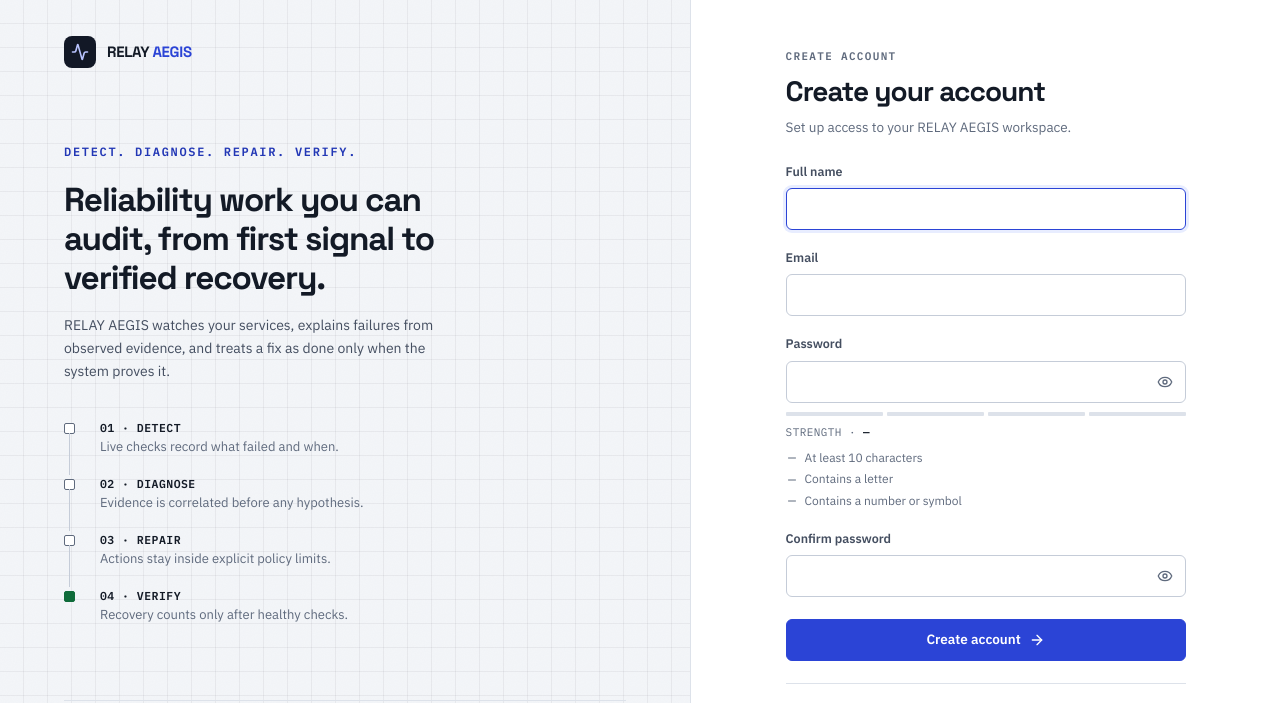
Test: registration › maps server validation errors to fields
In the field labelled "Full name": (986, 209) x1=786 y1=188 x2=1186 y2=230, type "Ada Lovelace"
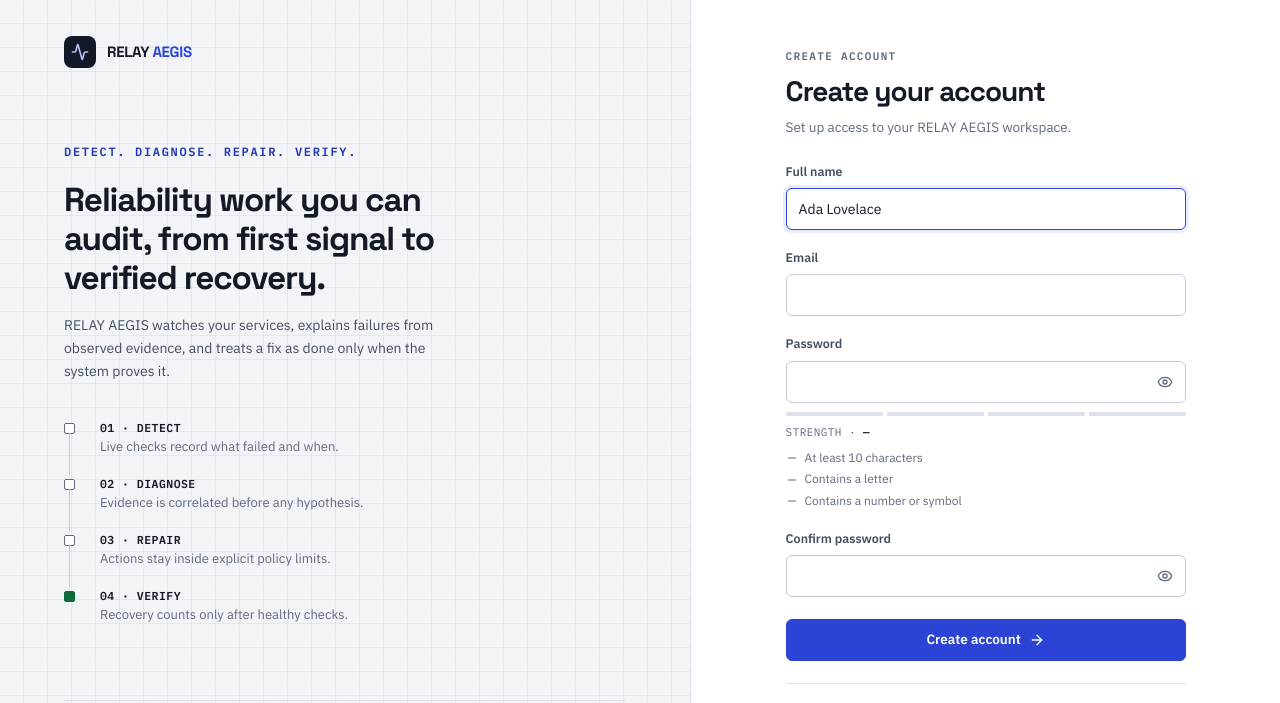
In the field labelled "Email": (986, 295) x1=786 y1=274 x2=1186 y2=316, type "ada@relay.test"
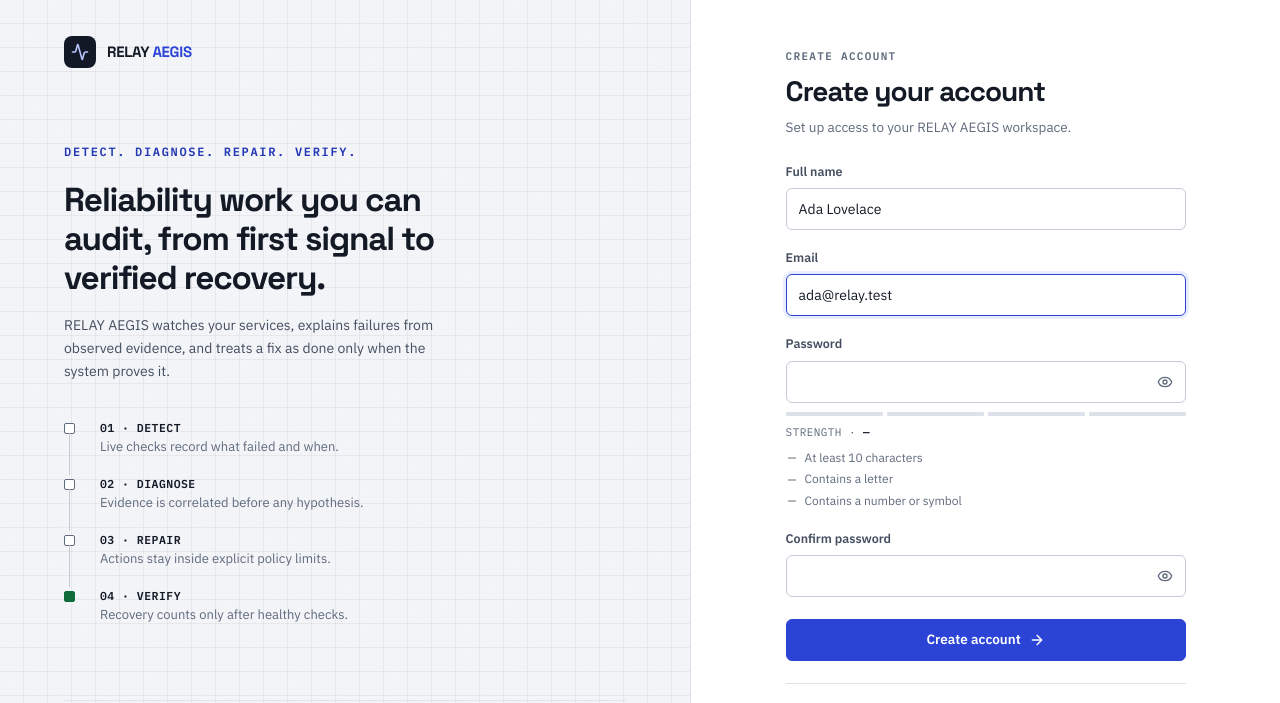
In the password field labelled "Password": (986, 382) x1=786 y1=361 x2=1186 y2=403, type "Correct-Horse-42"
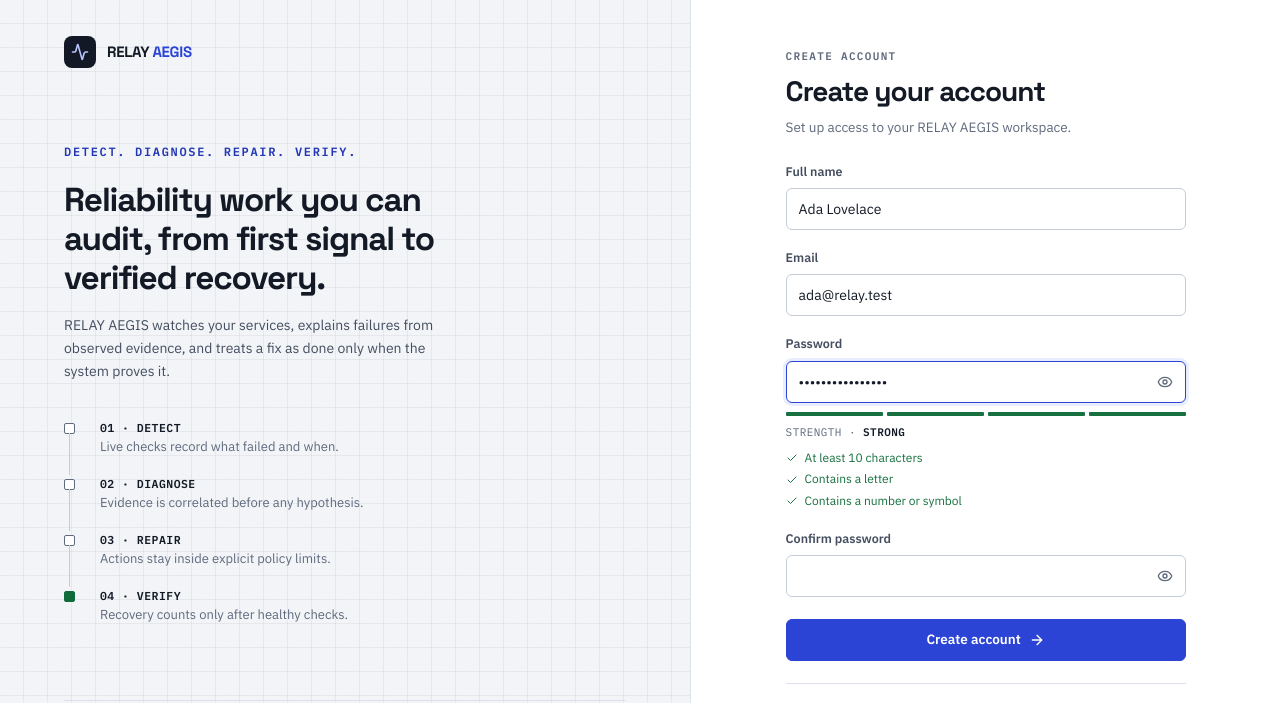
In the password field labelled "Confirm password": (986, 576) x1=786 y1=555 x2=1186 y2=597, type "Correct-Horse-42"
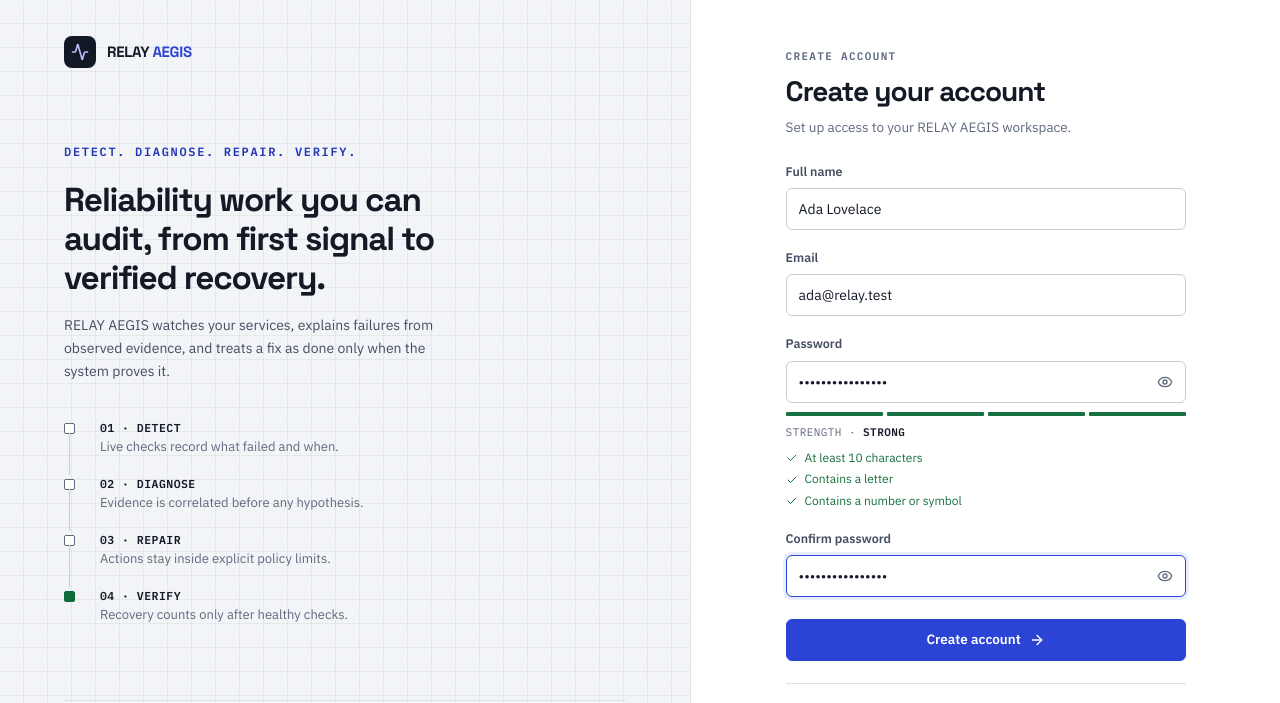
Click the button "Create account": (986, 640) x1=786 y1=619 x2=1186 y2=661
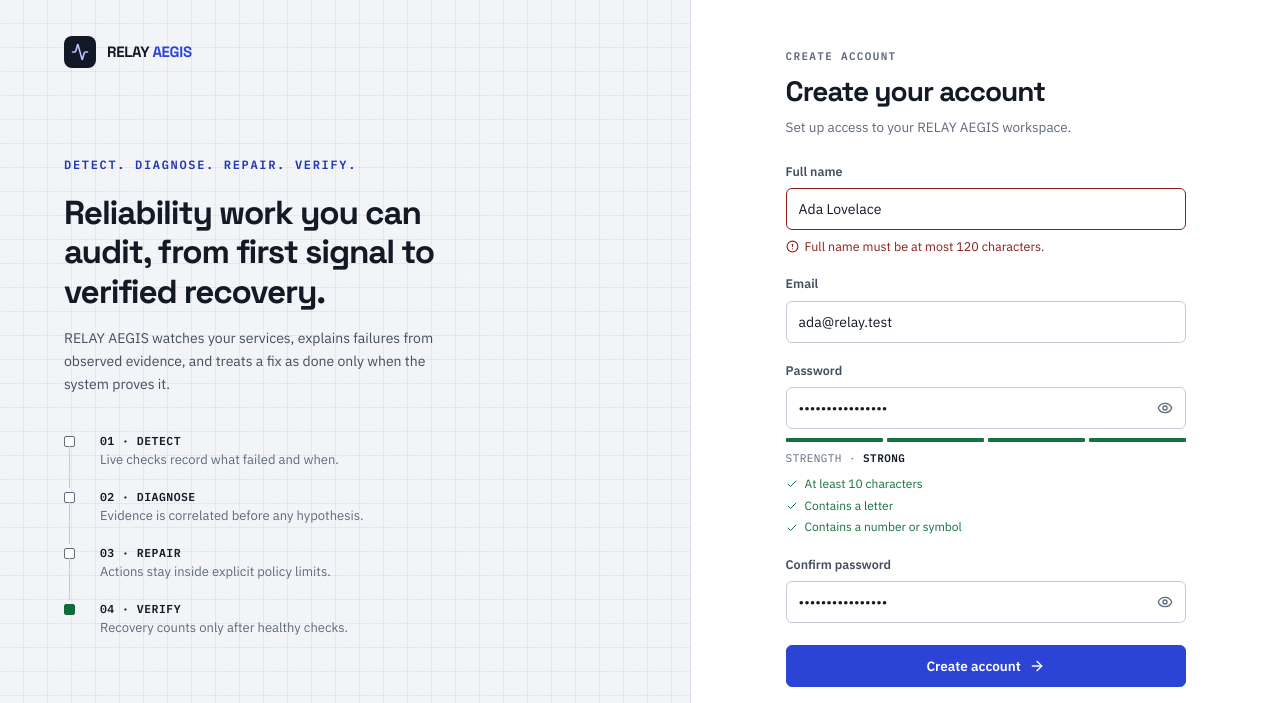
expect the text "Full name must be at most 120 characters." is shown: met, box x1=786 y1=238 x2=1044 y2=254
